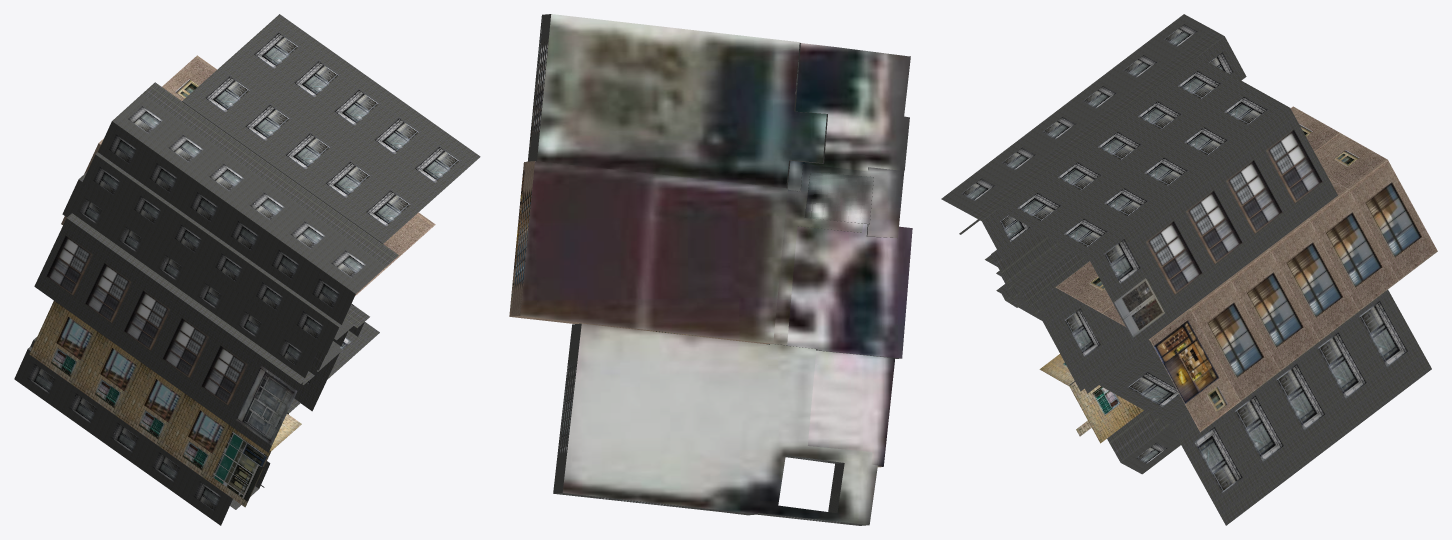
3 renders of one model, left to right at view 1: azimuth 30°, elevation 25°; view 2: azimuth 150°, elevation 25°; view 3: azimuth 270°, elevation 25°, orthographic. The views are drawn at different scales.
Size of the model in its own units: 26.9 by 29.6 by 31.27.
Materials: 29 (29 with a texture image).
